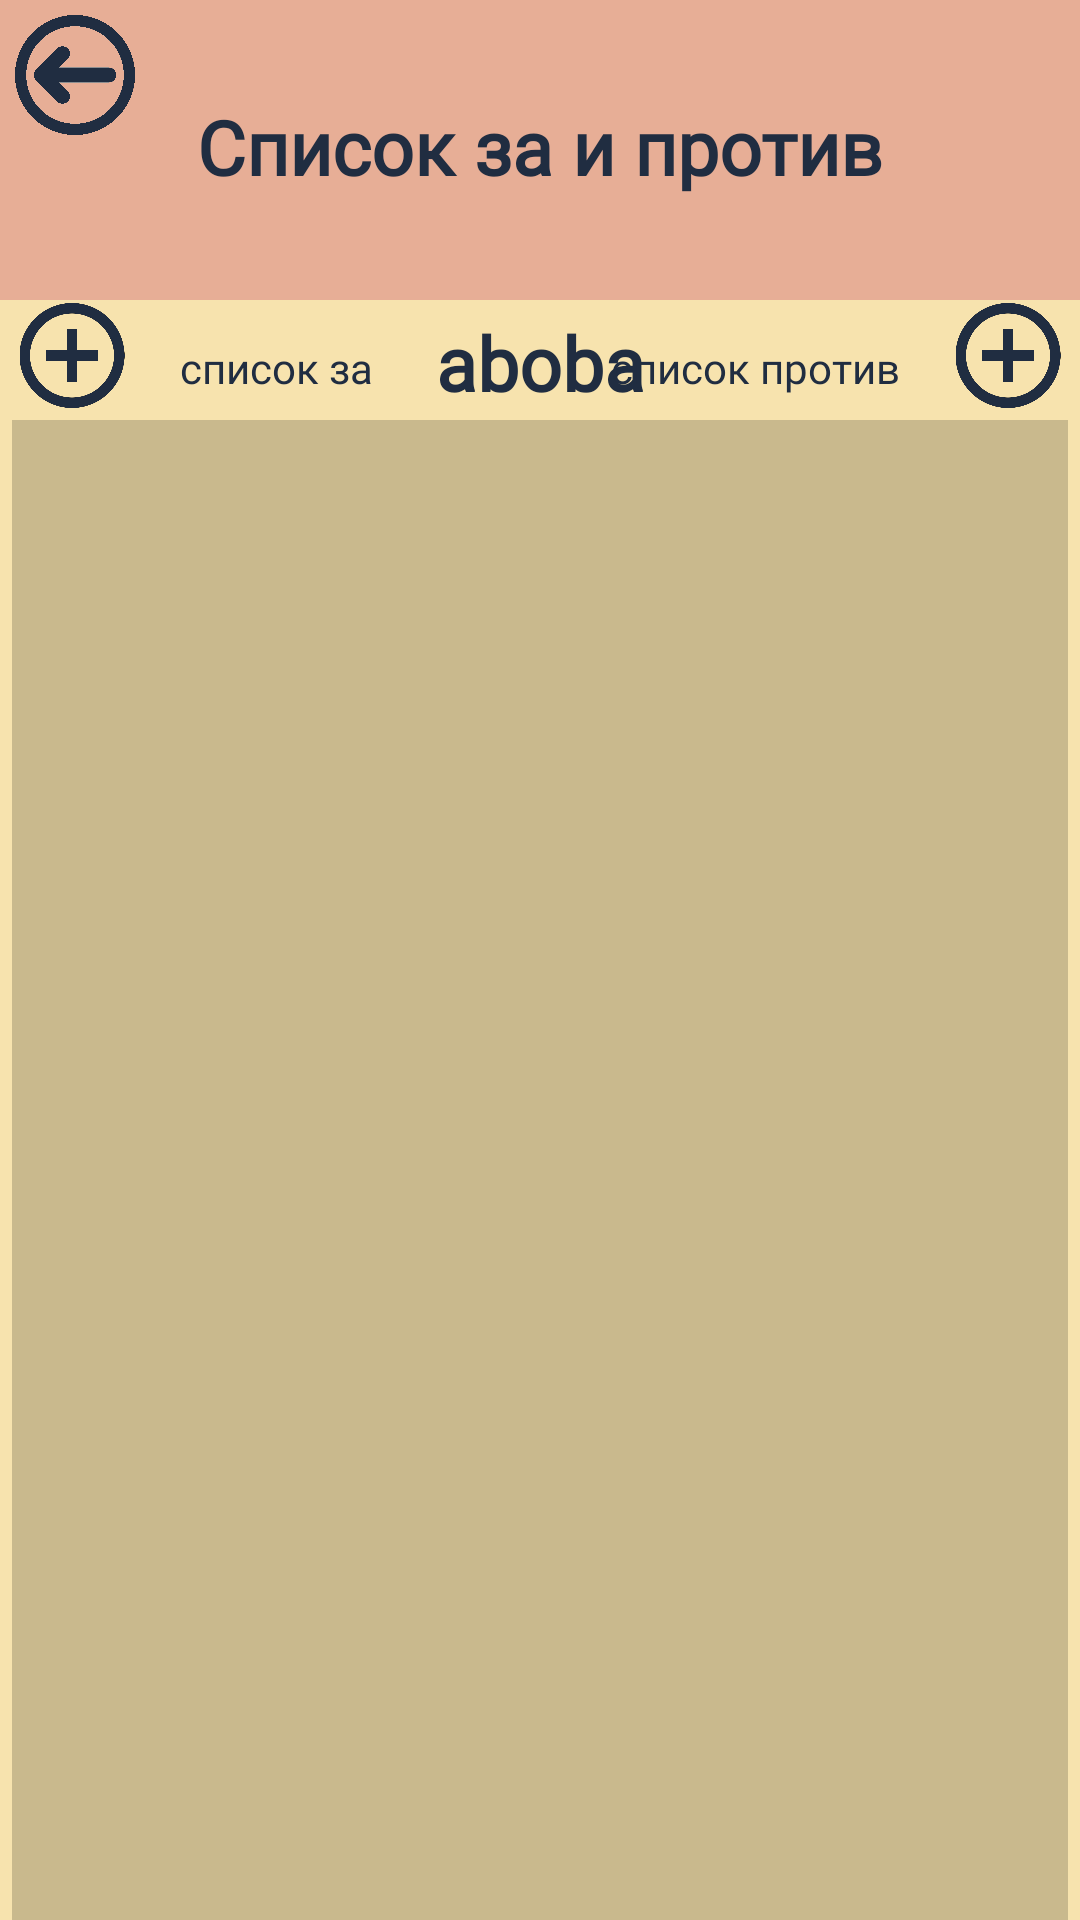

Named icons in this screenshot (1080×1920) and their centers, (x=x, y=y):
addbutton: (x=72, y=355), (x=1008, y=355)
backbutton: (x=75, y=75)
